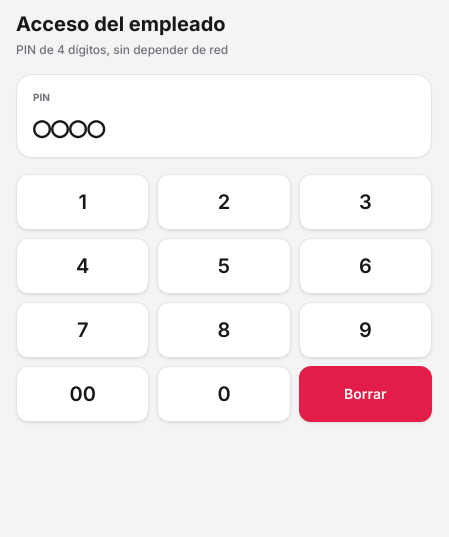
Scenario: EmployeeAccessScreen › masks the entry: the typed digits are never rendered
Expected: the button "1" is enabled, [16, 174, 149, 230]
What coordinates should you click on to do the following:
click the button "7"
I would click on:
 (83, 330)
Its box is [16, 302, 149, 358].
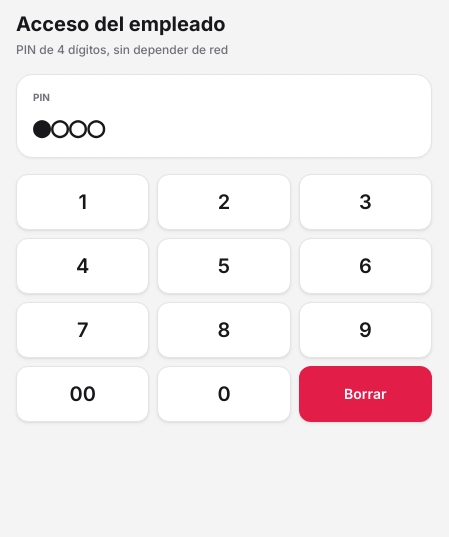
What coordinates should you click on to do the following:
click the button "3"
I would click on:
 (365, 202)
Its box is [299, 174, 432, 230].
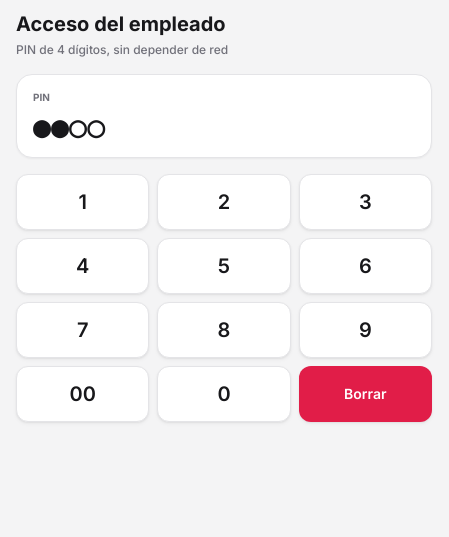
What coordinates should you click on to do the following:
click the button "9"
I would click on:
 (365, 330)
Its box is [299, 302, 432, 358].
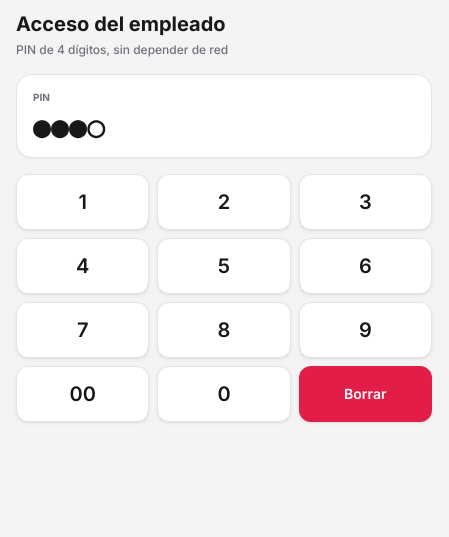
Now the text with test id "pin-display" reads "●●●○", box [33, 106, 105, 146]
What coordinates should you click on to do the following:
click the button "1"
I would click on:
 (83, 202)
Its box is [16, 174, 149, 230].
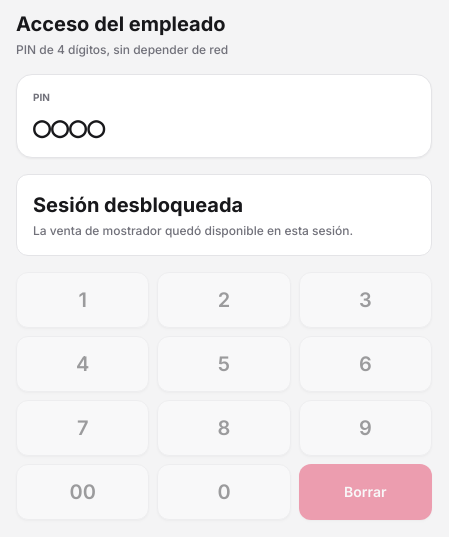
Now the text "Sesión desbloqueada" is shown, box [33, 193, 243, 217]
